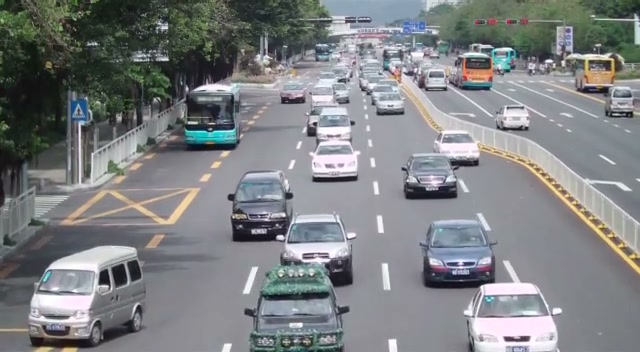bus: (183, 83, 242, 149), (570, 54, 616, 93), (450, 52, 494, 89), (492, 47, 516, 74)
car: (27, 245, 147, 347), (244, 263, 350, 352), (463, 282, 563, 352), (279, 212, 357, 285), (418, 218, 498, 288), (227, 169, 294, 241), (401, 153, 459, 199), (309, 140, 360, 182), (432, 130, 480, 167), (315, 112, 355, 148), (604, 86, 635, 118), (495, 105, 531, 131), (375, 87, 405, 116), (280, 81, 307, 103), (424, 69, 448, 91)
truck: (568, 54, 618, 93), (491, 47, 516, 74)
